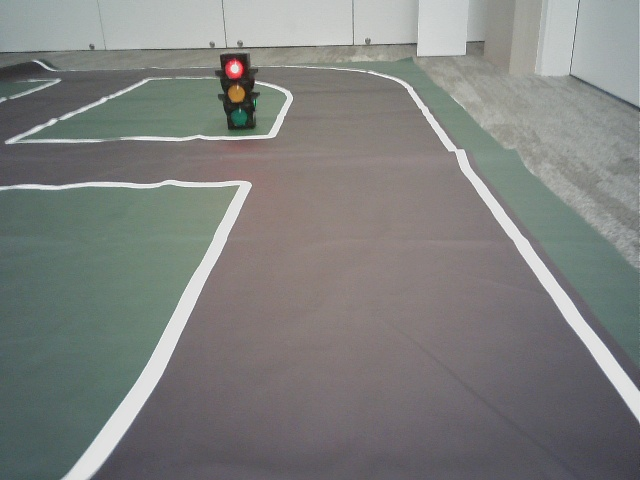red: (222, 56, 253, 126)
